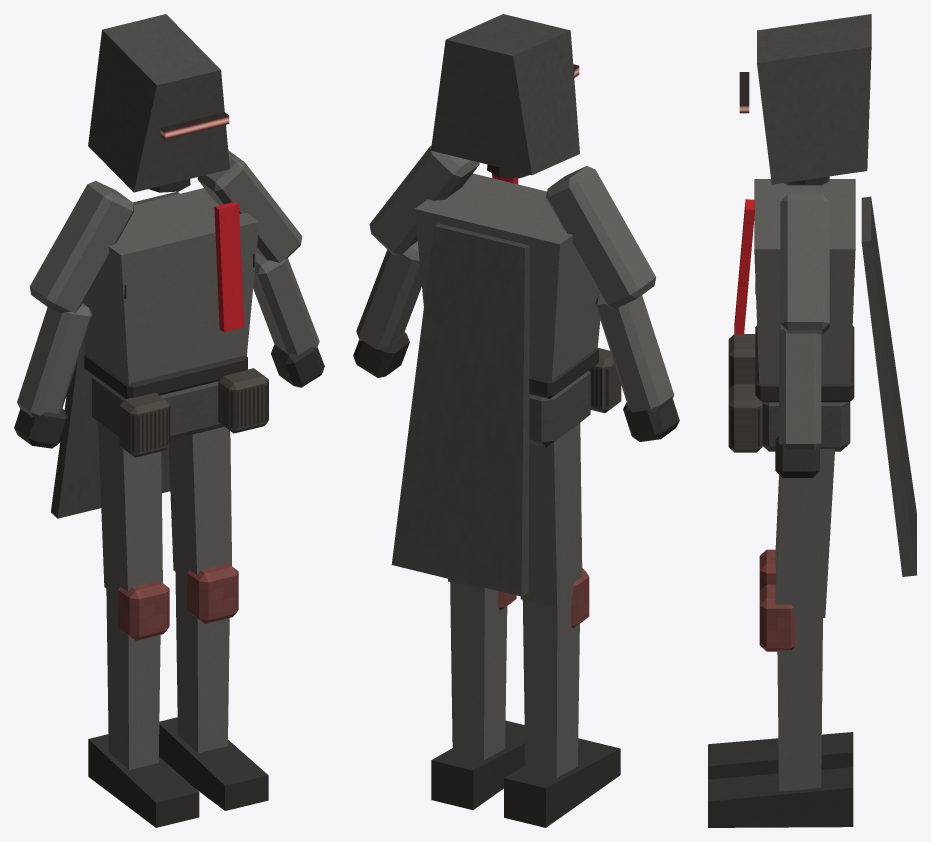
The model's file is char_ghost.obj.
3 renders of one model, left to right at view 1: azimuth 30°, elevation 25°; view 2: azimuth 150°, elevation 25°; view 3: azimuth 270°, elevation 25°, orthographic. The views are drawn at different scales.
Parts seen in each view (by area): view 1: char_ghost; view 2: char_ghost; view 3: char_ghost.
Part boxes in pixels (<box>): char_ghost: <box>14,14,324,827</box>; char_ghost: <box>353,14,679,827</box>; char_ghost: <box>708,14,916,827</box>.
Size of the model in its own units: 0.7394 by 1.75 by 0.4313.
Materials: 1 (1 with a texture image).
